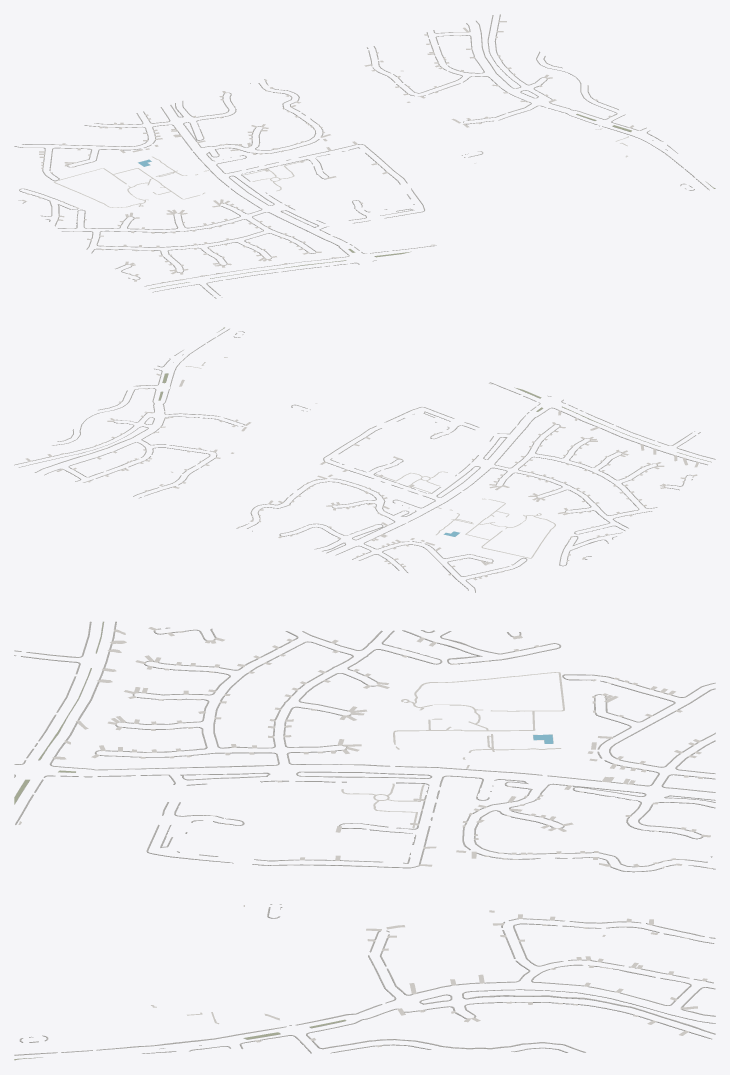
Rendered from ground_r2_c7.glb.
3 renders of one model, top to bottom at view 1: azimuth 30°, elevation 25°; view 2: azimuth 150°, elevation 25°; view 3: azimuth 270°, elevation 25°, orthographic. The views are drawn at different scales.
Parts seen in each view (by area): view 1: sidewalks, driveways, paths; view 2: sidewalks, driveways, paths; view 3: sidewalks, driveways, paths.
Part boxes in pixels (<box>): sidewalks: <box>14,14,713,298</box>; driveways: <box>21,21,633,284</box>; paths: <box>54,136,628,245</box>; sidewalks: <box>14,328,715,592</box>; driveways: <box>25,373,699,580</box>; paths: <box>185,357,555,558</box>; sidewalks: <box>14,621,715,1060</box>; driveways: <box>52,627,711,1047</box>; paths: <box>18,672,564,1024</box>.
Size of the model in its own units: 1126 by 32.22 by 788.
